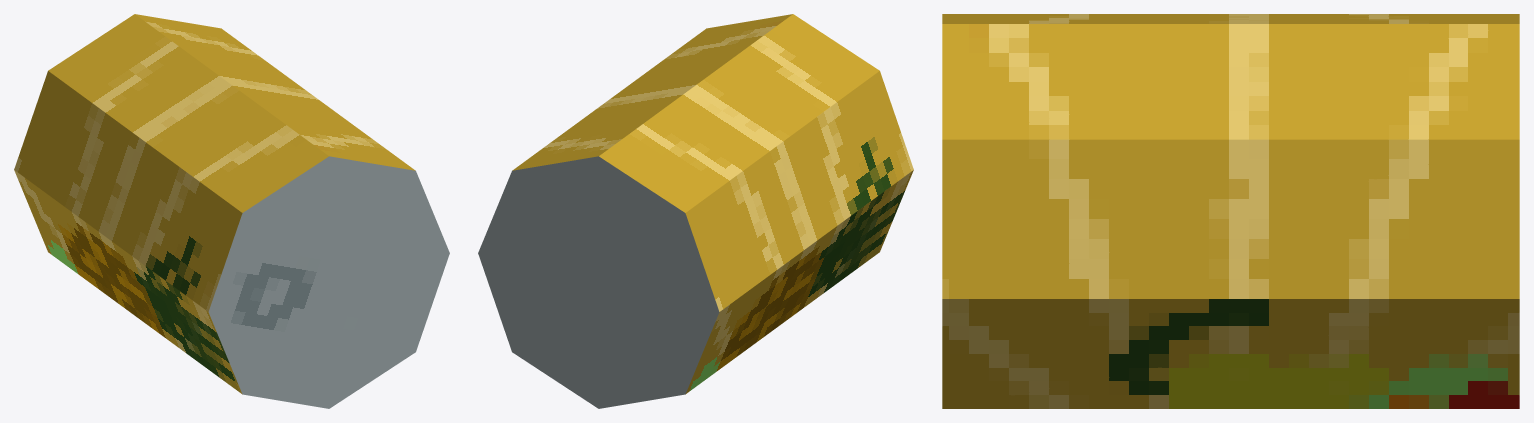
The model's file is fruitcan.fbx.
3 views of the same model, side by side, from view 1: azimuth 30°, elevation 25°; view 2: azimuth 150°, elevation 25°; view 3: azimuth 270°, elevation 25° (orthographic). The views are drawn at different scales.
Parts seen in each view (by area): view 1: Cube; view 2: Cube; view 3: Cube.
Boxes of the visible parts, x1,y1,x2,y2 form: Cube: (14,14,449,408); Cube: (478,14,913,408); Cube: (942,14,1519,408).
Bounding box in the file's own units: 200 × 200 × 279.
Materials: 1 (1 with a texture image).
